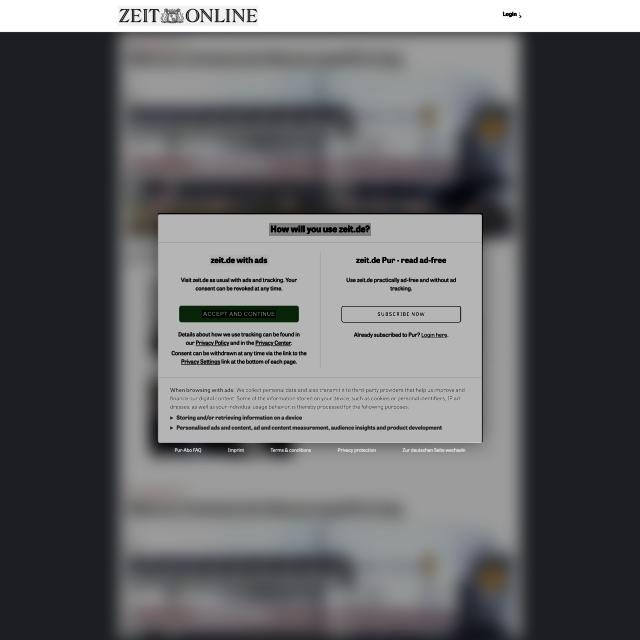CheckBox: (341, 305, 461, 323), (179, 306, 299, 322), (500, 12, 524, 22), (421, 332, 448, 339)
Input field: (168, 384, 470, 413)
breadcrumbs: (354, 254, 449, 267), (209, 255, 269, 266)
carousel: (518, 14, 522, 18)
data feed: (202, 310, 276, 318), (376, 310, 426, 318)
date picker: (118, 6, 258, 26)
header: (158, 213, 483, 442)
image: (269, 223, 371, 236)
